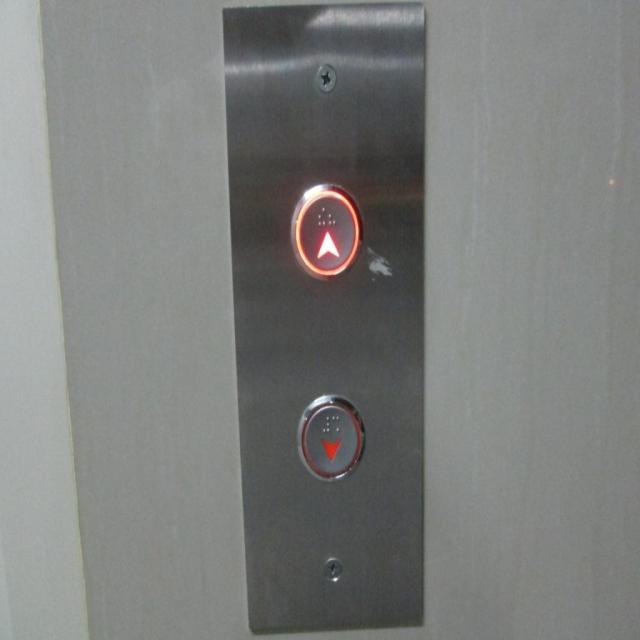down: (296, 393, 364, 482)
up: (291, 182, 363, 282)
